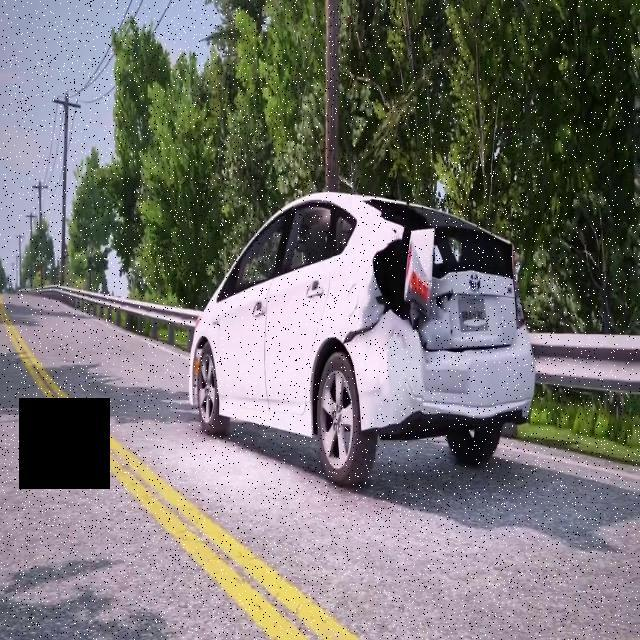moderate: (184, 188, 546, 497)
